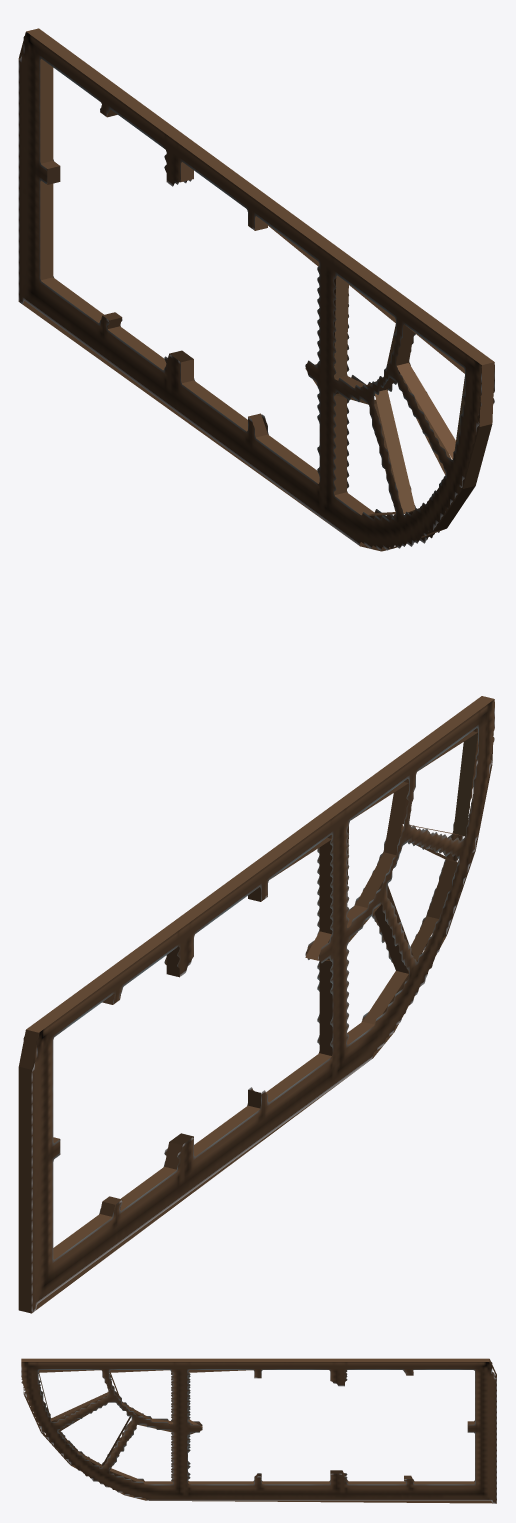
The model's file is pz_native_fixtures_windows_wood_62_frame.obj.
3 renders of one model, top to bottom at view 1: azimuth 30°, elevation 25°; view 2: azimuth 150°, elevation 25°; view 3: azimuth 270°, elevation 25°, orthographic. The views are drawn at different scales.
Visible parts, largest first — view 1: pz_native_fixtures_windows_wood_62_frame; view 2: pz_native_fixtures_windows_wood_62_frame; view 3: pz_native_fixtures_windows_wood_62_frame.
Part boxes in pixels (<box>): pz_native_fixtures_windows_wood_62_frame: <box>18,28,494,551</box>; pz_native_fixtures_windows_wood_62_frame: <box>18,696,494,1313</box>; pz_native_fixtures_windows_wood_62_frame: <box>21,1358,496,1503</box>.
Size of the model in its own units: 0.04 by 0.8594 by 2.54.
1 material, 1 textured.
